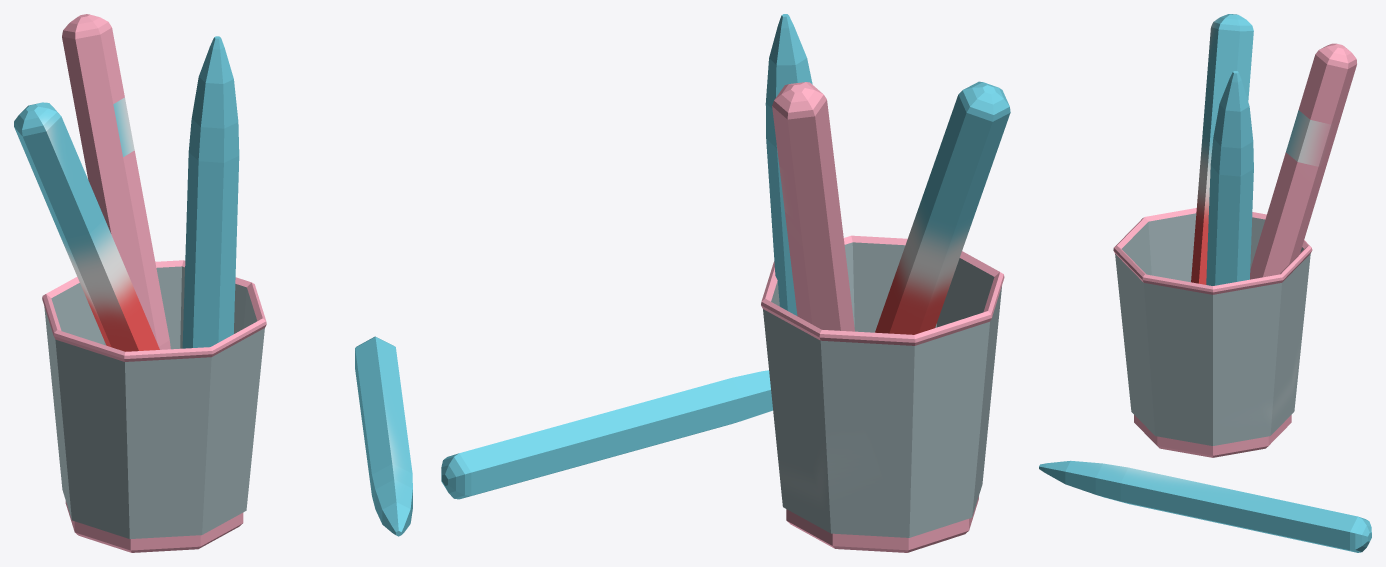
File: copoecanetas.fbx
3 views of the same model, side by side, from view 1: azimuth 30°, elevation 25°; view 2: azimuth 150°, elevation 25°; view 3: azimuth 270°, elevation 25° (orthographic). The views are drawn at different scales.
Parts seen in each view (by area): view 1: Cube; view 2: Cube; view 3: Cube.
Boxes of the visible parts, x1=… form: Cube: x1=14, y1=14, x2=412, y2=552; Cube: x1=441, y1=14, x2=1010, y2=552; Cube: x1=1039, y1=14, x2=1371, y2=552.
Bounding box in the file's own units: 451 × 435 × 340.
